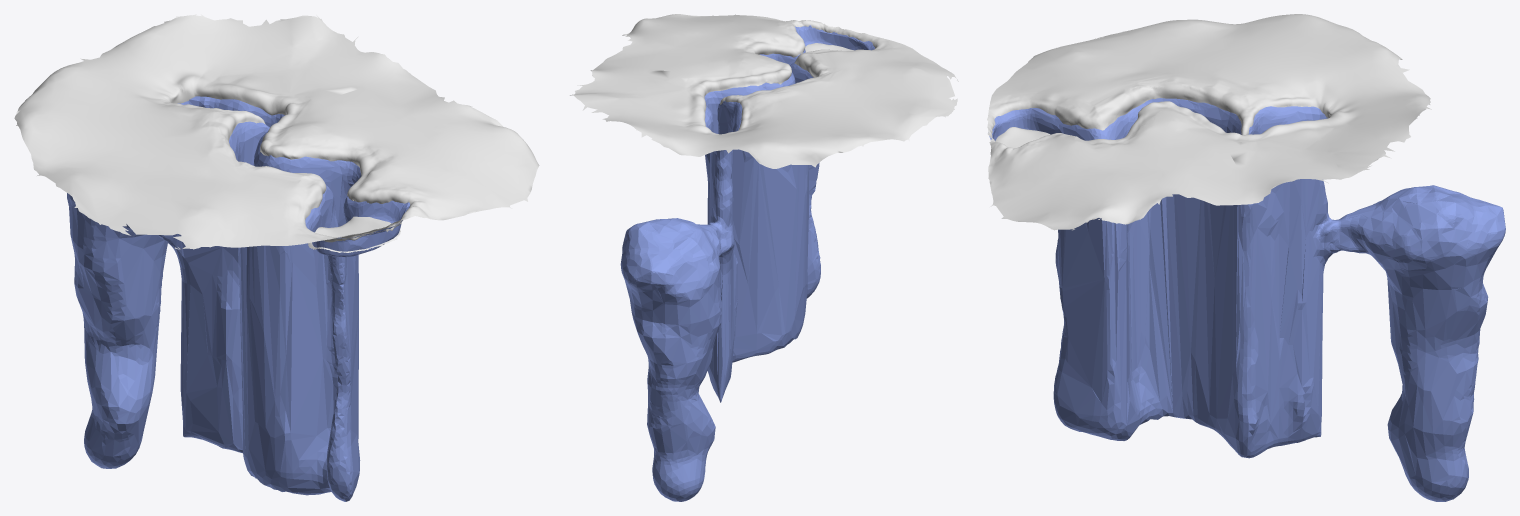
The model's file is EuropaSurface.fbx.
3 renders of one model, left to right at view 1: azimuth 30°, elevation 25°; view 2: azimuth 150°, elevation 25°; view 3: azimuth 270°, elevation 25°, orthographic. The views are drawn at different scales.
Visible parts, largest first — view 1: SurfaceSnow, Moon, CraterSnow; view 2: Moon, SurfaceSnow; view 3: Moon, SurfaceSnow, CraterSnow.
Part boxes in pixels (x1,y1,x2,y2): SurfaceSnow: (14, 14, 539, 249); Moon: (67, 96, 409, 501); CraterSnow: (308, 216, 400, 252); Moon: (620, 25, 875, 501); SurfaceSnow: (570, 14, 958, 168); Moon: (989, 98, 1505, 501); SurfaceSnow: (987, 14, 1431, 230); CraterSnow: (995, 127, 1050, 148).
Size of the model in its own units: 2064 by 2098 by 2348.
